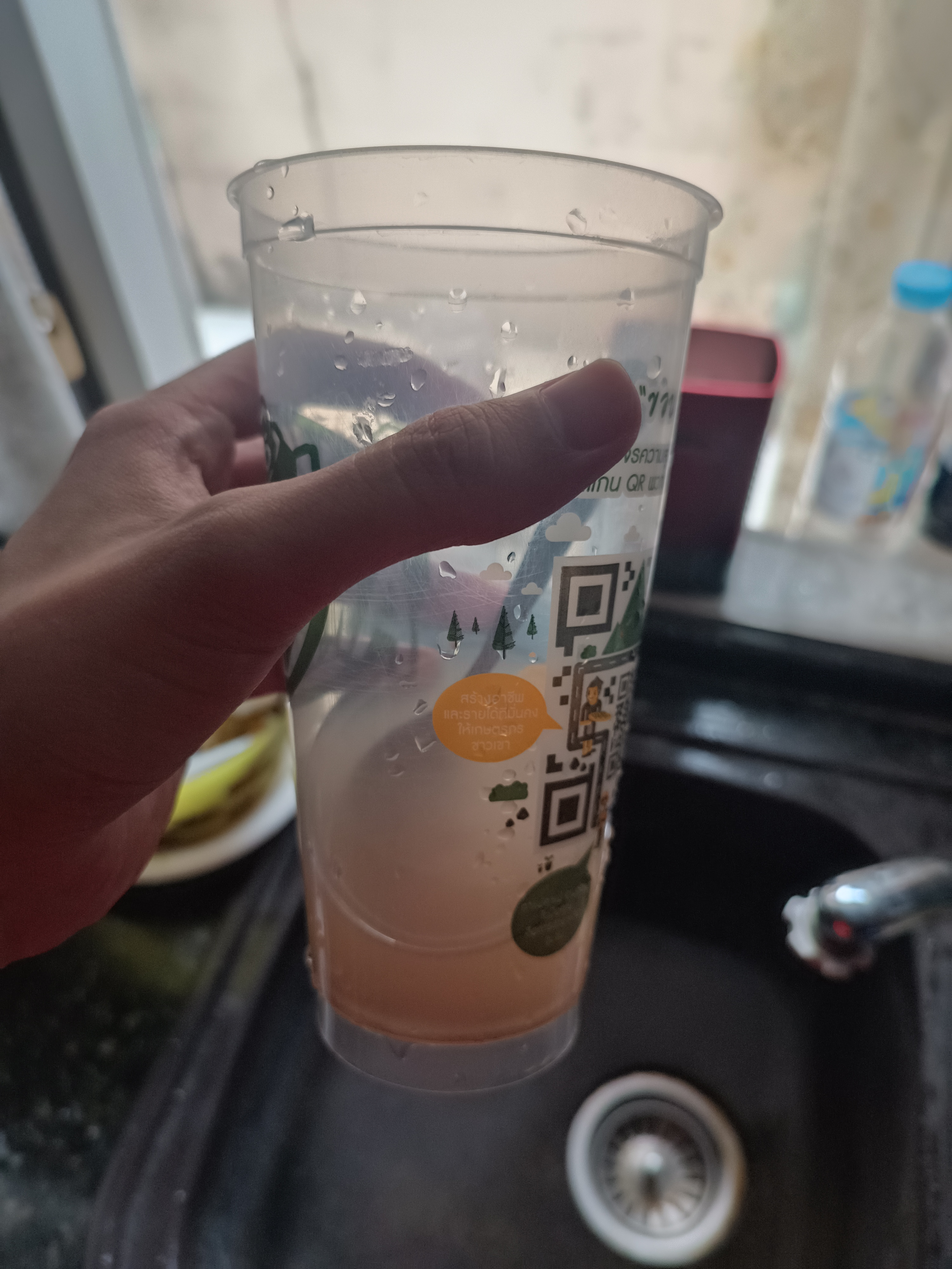plastic: (214, 116, 736, 1107)
